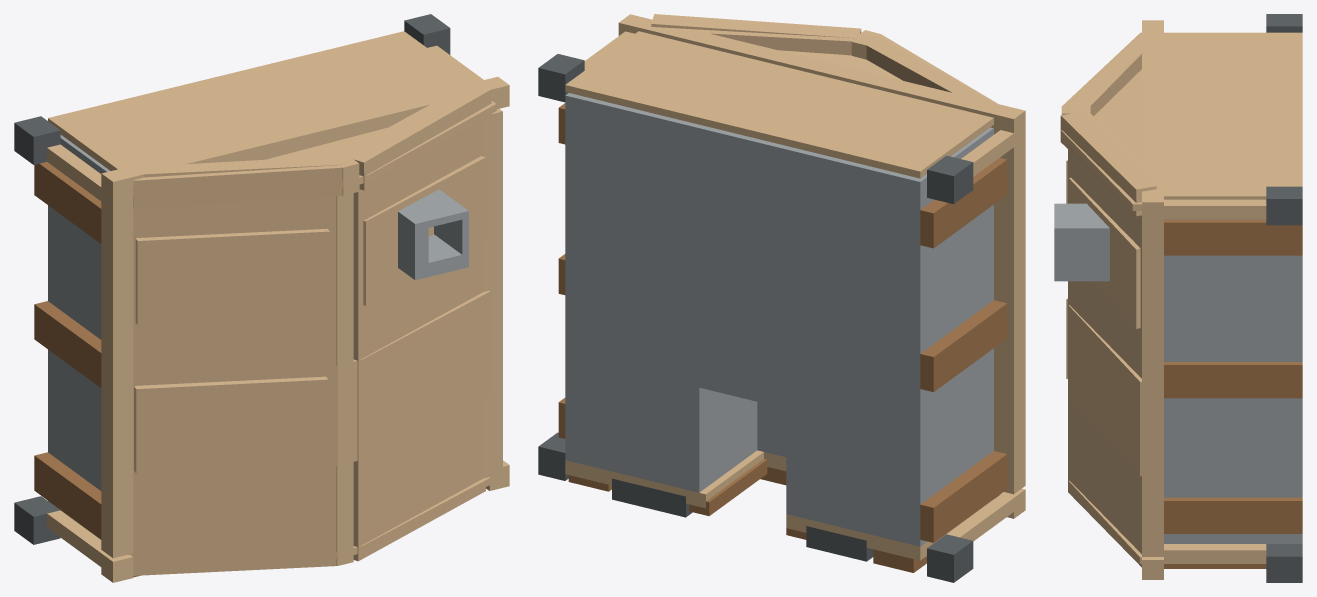
Rendered from tinker.obj.
The picture shows the model from 3 angles, left to right: view 1: azimuth 30°, elevation 25°; view 2: azimuth 150°, elevation 25°; view 3: azimuth 270°, elevation 25°; orthographic projection. The views are drawn at different scales.
Visible parts, largest first — view 1: group_0_14860437, group_0_10988977, group_0_11107152, group_0_6383466; view 2: group_0_10988977, group_0_14860437, group_0_11107152, group_0_6383466; view 3: group_0_14860437, group_0_10988977, group_0_11107152, group_0_6383466.
Part boxes in pixels (x1,y1,x2,y2): group_0_14860437: (47,31,509,582); group_0_10988977: (48,135,468,490); group_0_11107152: (34,162,139,577); group_0_6383466: (14,14,450,544); group_0_10988977: (565,93,993,546); group_0_14860437: (565,14,1025,560); group_0_11107152: (558,103,1007,572); group_0_6383466: (538,54,973,582); group_0_14860437: (1060,20,1302,579); group_0_10988977: (1054,203,1302,543); group_0_11107152: (1164,219,1302,568); group_0_6383466: (1266,14,1302,582).
Size of the model in its own units: 62 by 59 by 34.
